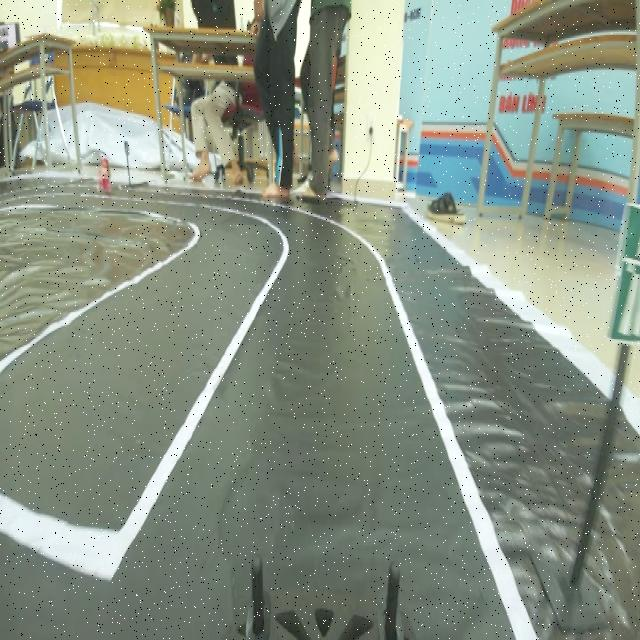highway_entry: (608, 194, 640, 359)
